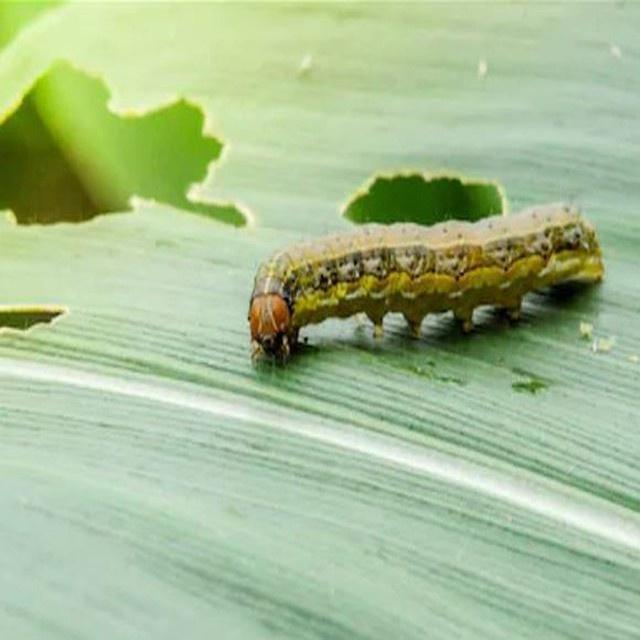yellow-stem-borer-larva: (223, 204, 640, 357)
